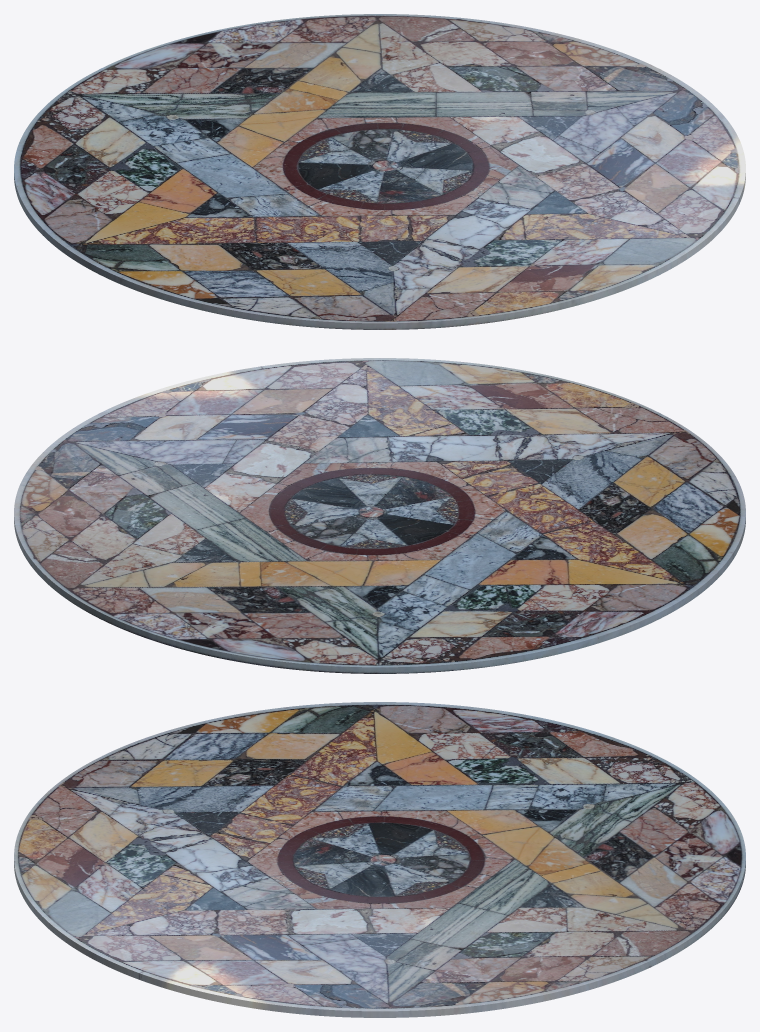
The model's file is table2.obj.
The picture shows the model from 3 angles, top to bottom: view 1: azimuth 30°, elevation 25°; view 2: azimuth 150°, elevation 25°; view 3: azimuth 270°, elevation 25°; orthographic projection.
Visible parts, largest first — view 1: Cylinder_Cylinder.001; view 2: Cylinder_Cylinder.001; view 3: Cylinder_Cylinder.001.
Part boxes in pixels (x1,y1,x2,y2): Cylinder_Cylinder.001: (14, 14, 745, 329); Cylinder_Cylinder.001: (14, 358, 745, 673); Cylinder_Cylinder.001: (14, 702, 745, 1017).
Size of the model in its own units: 1 by 0.01 by 1.
Materials: 1 (1 with a texture image).
